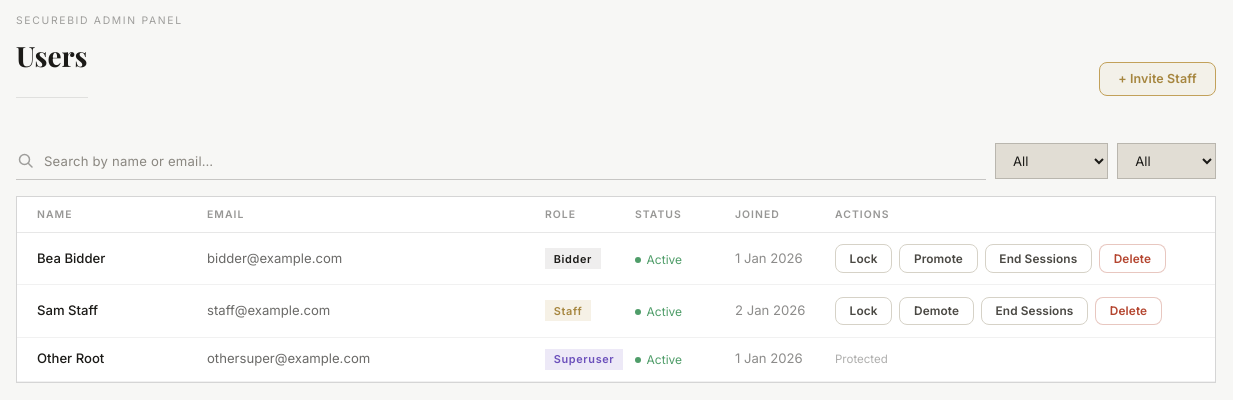
Test: AdminUsers — Lock/Unlock interaction › locks an active user and flips the button to Unlock
Expected: the text "bidder@example.com" is shown, [187, 233, 525, 285]
Click the button "Lock" in the row of "Bea Bidder".
click(864, 259)  # box [835, 244, 892, 273]
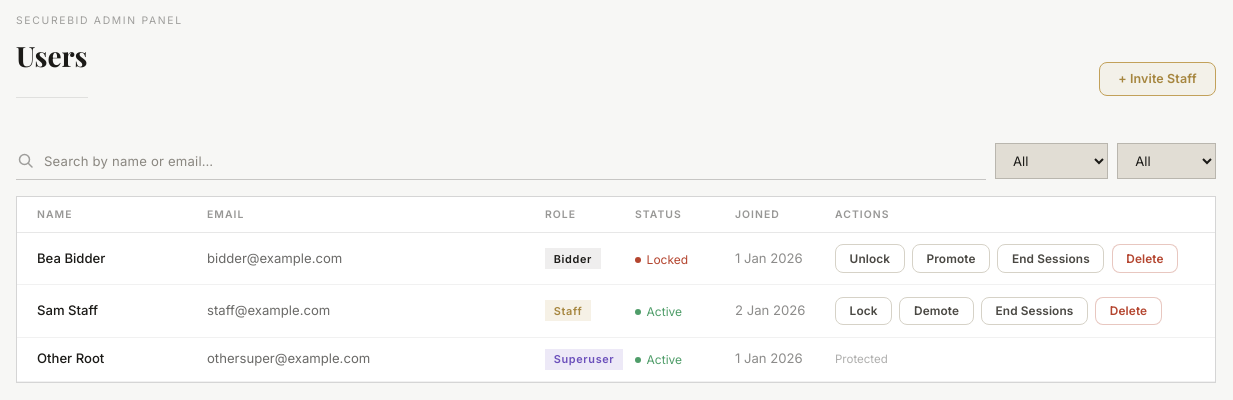
Result: the button "Unlock" is shown at [835, 244, 905, 273]
